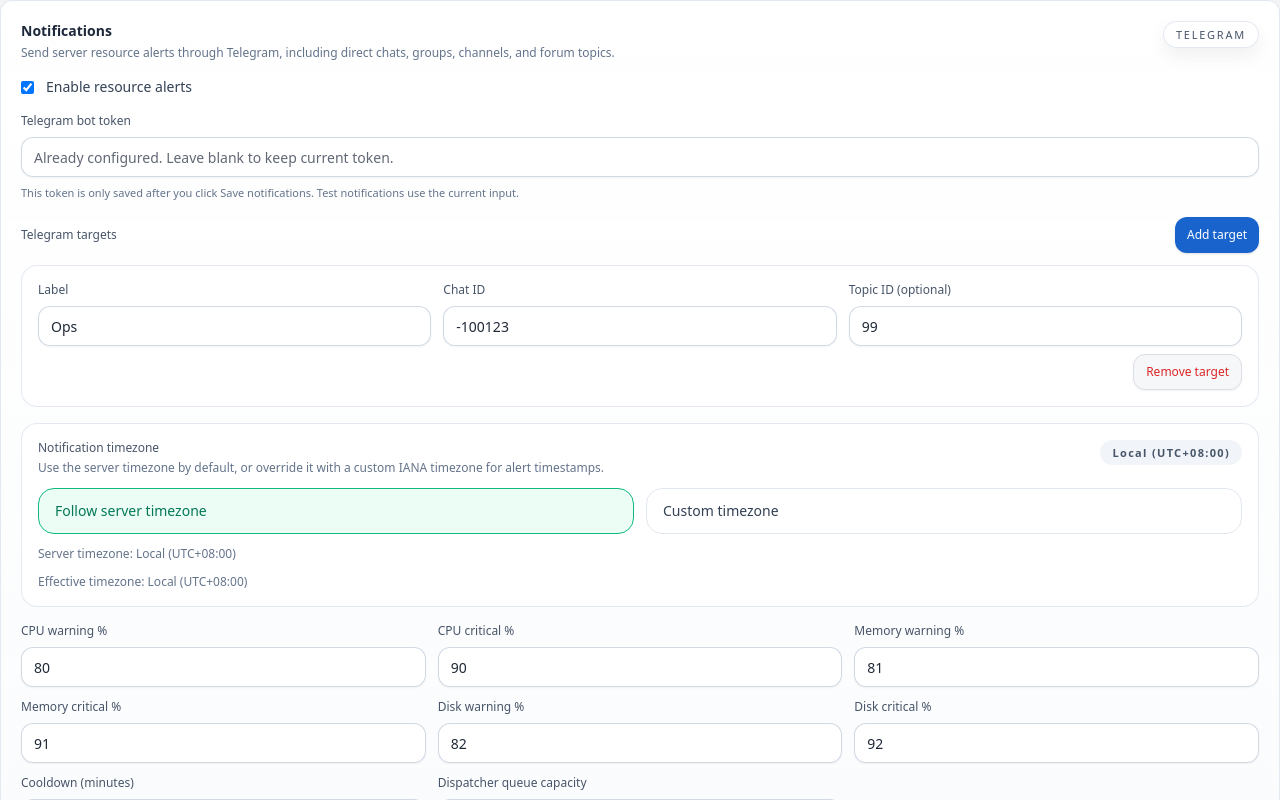
notifications card › shows unsaved token guidance and localized toggle states
Expected: the text "This token is only saved after you click Save notifications. Test notifications use the current input." is shown, [21,185,519,200]
In the password field labelled "Telegram bot token": [640, 157] box [21,137,1259,177], type "new-token"
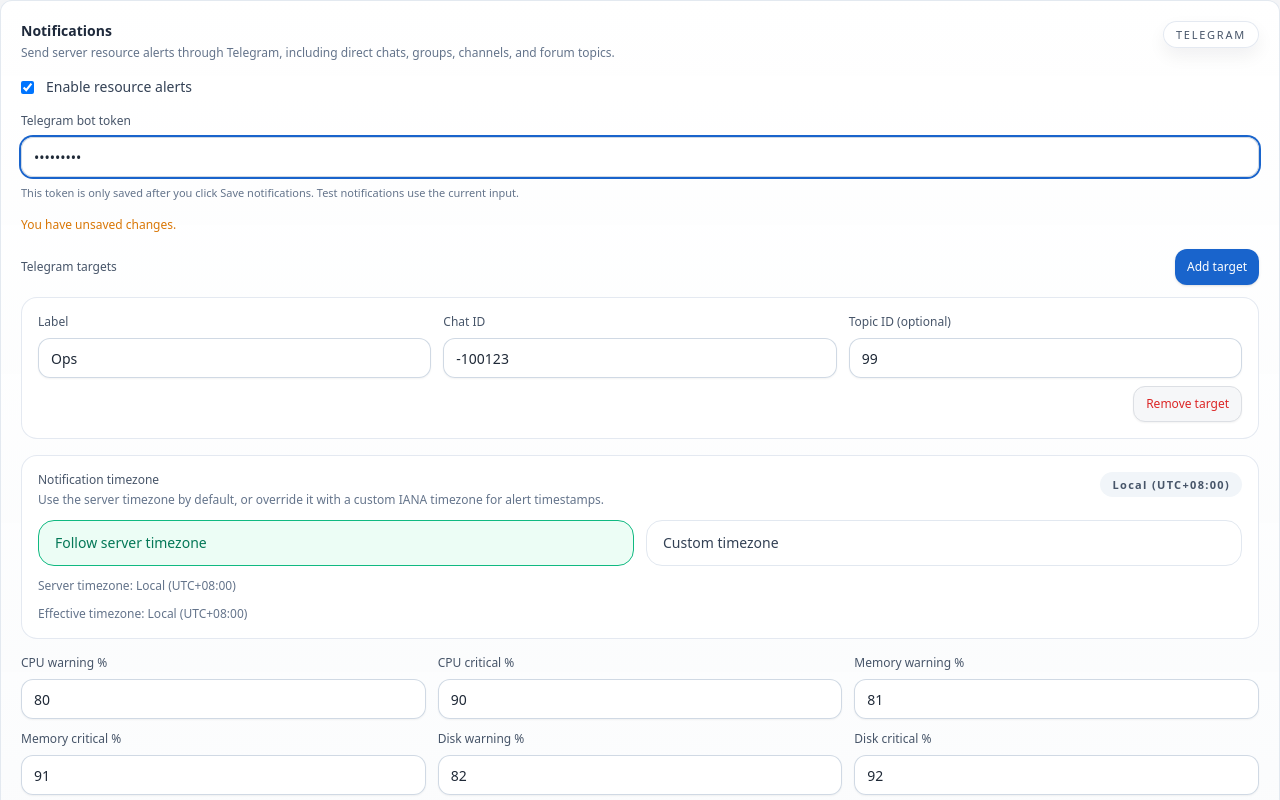
Expected: the text "You have unsaved changes." is shown, [21,216,176,233]
